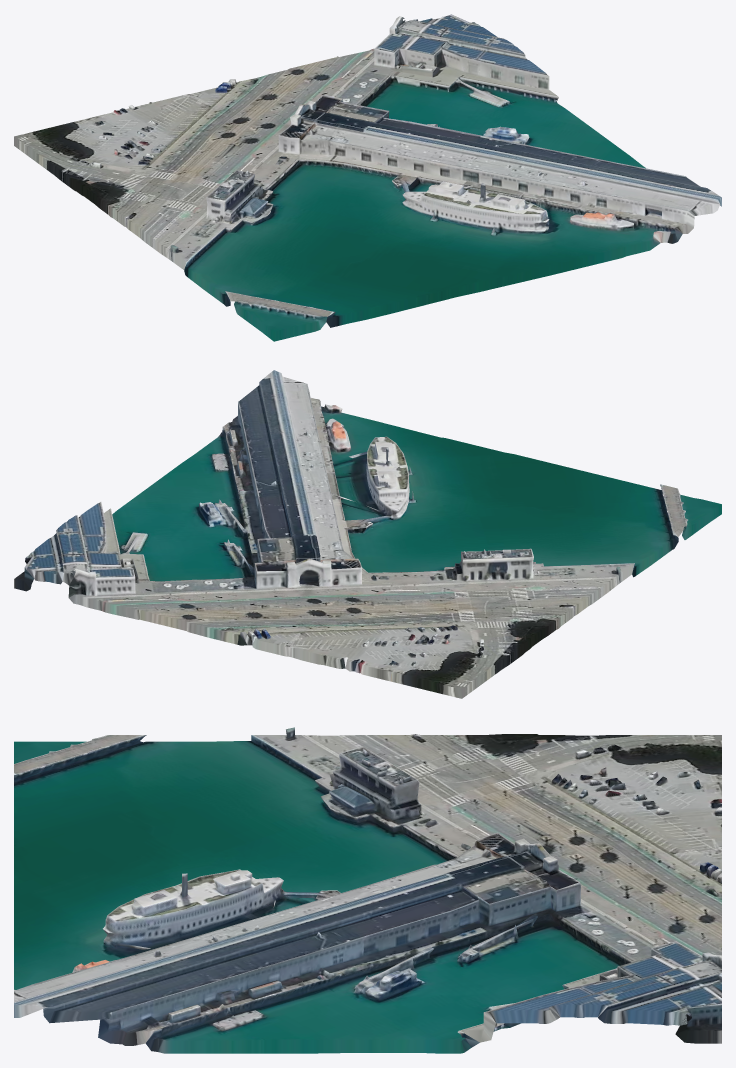
File: z17-20972-50650-h0-yup-uvflip-v3-world.glb
3 views of the same model, one above another, from view 1: azimuth 30°, elevation 25°; view 2: azimuth 150°, elevation 25°; view 3: azimuth 270°, elevation 25° (orthographic). The views are drawn at different scales.
Bounding box in the file's own units: 241 × 24.32 × 243.
1 material, 1 textured.
